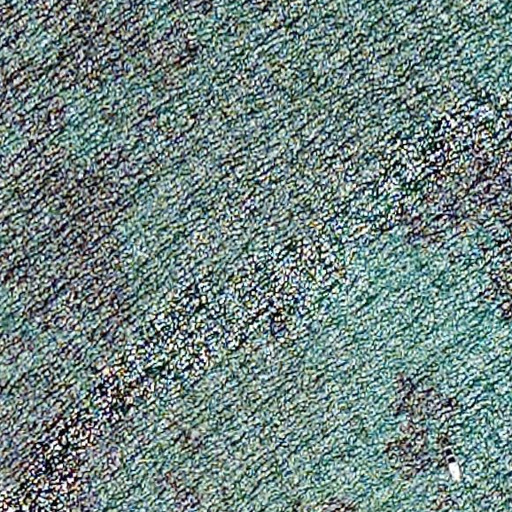ship: (439, 442, 466, 484)
